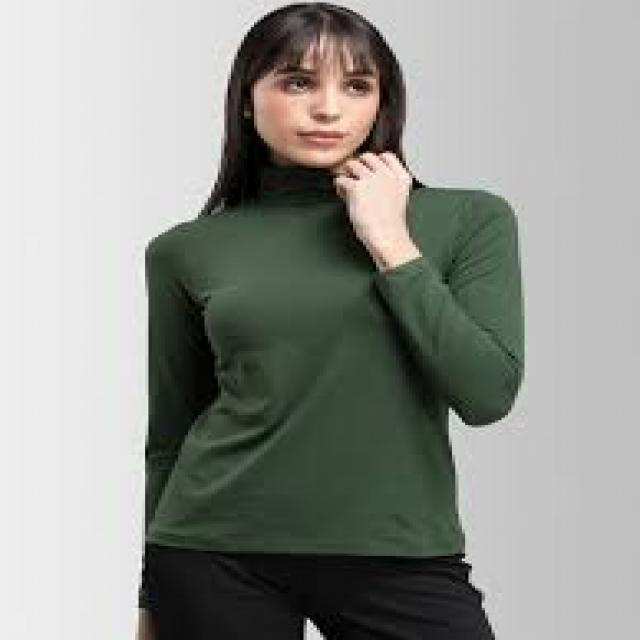plain: (122, 176, 538, 560)
